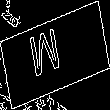M_S: (37, 24, 73, 86)
